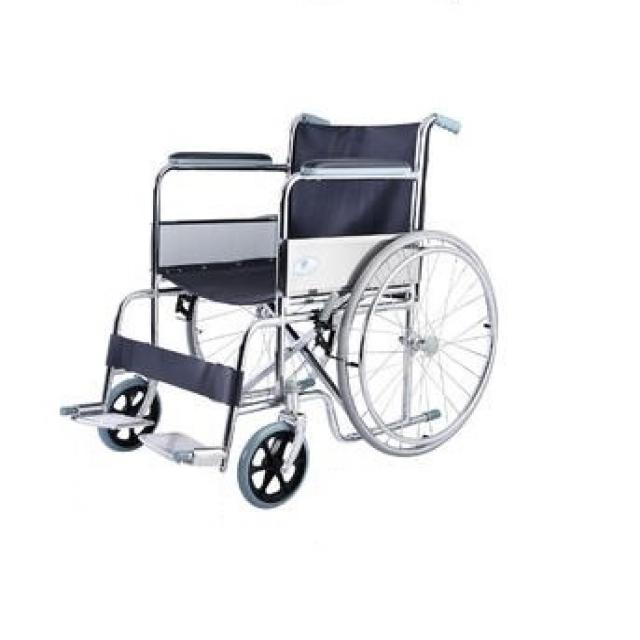wheelchair: (49, 59, 521, 533)
